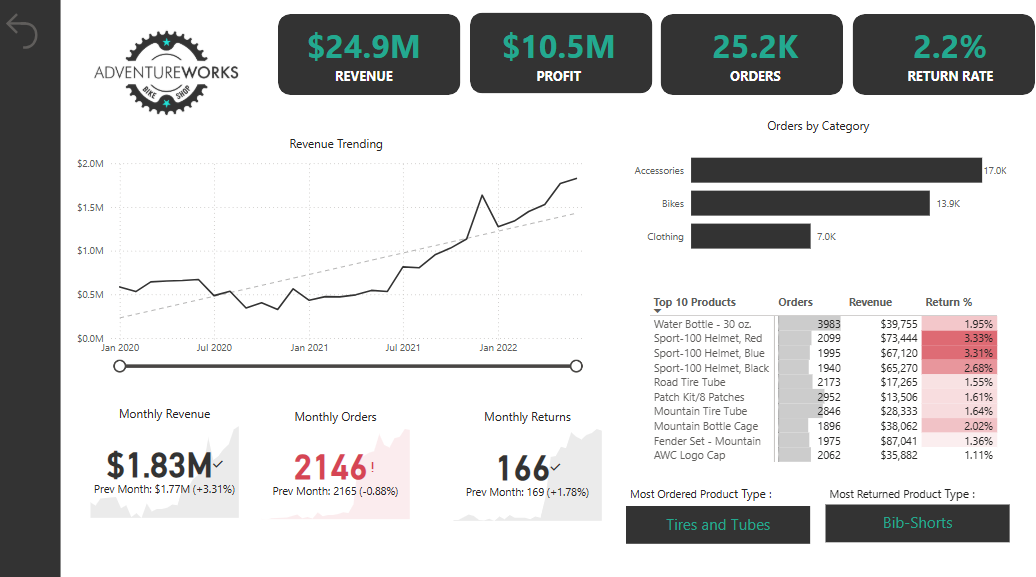

The dashboard page shown, as its layout file describes it:
{"tool":"powerbi","page":{"name":"Exec Dashboard","canvas":[1280,720],"ordinal":0},"visuals":[{"type":"image","title":"AW logo","box":[91.7,15,228.3,160],"z":0},{"type":"shape","box":[345.2,22.5,225.4,100],"z":0,"group":"g2"},{"type":"shape","title":"Left Nav Background","box":[0,0,76.1,719.7],"z":1000},{"type":"shape","box":[581.8,21.1,225.4,100],"z":1000,"group":"g2"},{"type":"group","id":"g1","title":"KPIs","box":[345.1,0.7,935.4,140.8],"z":2000},{"type":"group","id":"g2","title":"KPI Background","box":[345.2,21.1,935.2,101.4],"z":2000,"group":"g1"},{"type":"shape","box":[817,22.5,225.4,100],"z":2000,"group":"g2"},{"type":"card","fields":{"Values":["Measure Table.Total Revenue"]},"box":[345.1,0.7,211.3,140.8],"z":3000,"group":"g3"},{"type":"lineChart","title":"Revenue Trending","fields":{"Y":["Measure Table.Total Revenue"],"Category":["Calendar Lookup.Year","Calendar Lookup.Start of Month","Calendar Lookup.Start of Quarter"]},"box":[90.1,171.8,650.7,295.8],"z":3000},{"type":"card","fields":{"Values":["Measure Table.Total Orders"]},"box":[827.7,0.7,211.3,140.8],"z":4000,"group":"g3"},{"type":"shape","box":[1055.1,22.5,225.4,100],"z":4000,"group":"g2"},{"type":"kpi","title":"Monthly Revenue","fields":{"Indicator":["Measure Table.Total Revenue"],"TrendLine":["Calendar Lookup.Start of Month"],"Goal":["Measure Table.Previous Month Revenue"]},"box":[108.1,506.5,193.5,143.5],"z":4000},{"type":"card","fields":{"Values":["Measure Table.Return Rate"]},"box":[1068.8,0.7,211.3,140.8],"z":5000,"group":"g3"},{"type":"kpi","title":"Monthly Returns","fields":{"TrendLine":["Calendar Lookup.Start of Month"],"Indicator":["Measure Table.Total Returns"],"Goal":["Measure Table.Previous Month Returns"]},"box":[556.5,509.7,193.5,143.5],"z":5000},{"type":"card","fields":{"Values":["Measure Table.Total Profit"]},"box":[586.4,0.7,211.3,140.8],"z":6000,"group":"g3"},{"type":"kpi","title":"Monthly Orders","fields":{"TrendLine":["Calendar Lookup.Start of Month"],"Indicator":["Measure Table.Total Orders"],"Goal":["Measure Table.Previous Month Orders"]},"box":[319.4,509.7,193.5,141.9],"z":6000},{"type":"group","id":"g3","title":"KPI Values","box":[345.1,0.7,934.9,140.8],"z":6001,"group":"g1"},{"type":"barChart","title":"Orders by Category","fields":{"Category":["Product Categories Lookup.CategoryName","Product Subcategories Lookup.SubcategoryName"],"Y":["Measure Table.Total Orders"]},"box":[774.6,150.7,474.6,184.5],"z":7000},{"type":"pivotTable","fields":{"Rows":["Product Lookup.ProductName"],"Values":["Measure Table.Total Orders","Measure Table.Total Revenue","Measure Table.Return Rate"]},"box":[798.4,362.9,443.5,219.4],"z":8000},{"type":"card","fields":{"Values":["Min(Product Subcategories Lookup.SubcategoryName)"]},"box":[774.2,629,227.4,46.8],"z":9000},{"type":"textbox","box":[774.2,598.4,208.1,30.6],"z":10000},{"type":"card","fields":{"Values":["Min(Product Subcategories Lookup.SubcategoryName)"]},"box":[1021,627.4,227.4,46.8],"z":11000},{"type":"textbox","box":[1021,598.4,208.1,32.3],"z":12000},{"type":"actionButton","box":[0,15,76.7,56.7],"z":13000}]}

Visuals, with their boxes in screenshot pixels (x1, y1, x2, y2), scaled from the page's 1280x720 canvas onto the 1036x577 screenshot:
"AW logo" image: (74, 12, 259, 140)
shape: (279, 18, 462, 98)
"Left Nav Background" shape: (0, 0, 62, 576)
shape: (471, 17, 653, 97)
"KPIs" group: (279, 1, 1035, 113)
"KPI Background" group: (279, 17, 1035, 98)
shape: (661, 18, 844, 98)
card - Measure Table.Total Revenue: (279, 1, 450, 113)
"Revenue Trending" lineChart: (73, 138, 600, 375)
card - Measure Table.Total Orders: (670, 1, 841, 113)
shape: (854, 18, 1035, 98)
"Monthly Revenue" kpi: (87, 406, 244, 521)
card - Measure Table.Return Rate: (865, 1, 1035, 113)
"Monthly Returns" kpi: (450, 408, 607, 523)
card - Measure Table.Total Profit: (475, 1, 646, 113)
"Monthly Orders" kpi: (259, 408, 415, 522)
"KPI Values" group: (279, 1, 1035, 113)
"Orders by Category" barChart: (627, 121, 1011, 269)
pivotTable - Product Lookup.ProductName x Measure Table.Total Orders: (646, 291, 1005, 467)
card - Min(Product Subcategories Lookup.SubcategoryName): (627, 504, 811, 542)
textbox: (627, 480, 795, 504)
card - Min(Product Subcategories Lookup.SubcategoryName): (826, 503, 1010, 540)
textbox: (826, 480, 995, 505)
actionButton: (0, 12, 62, 57)
